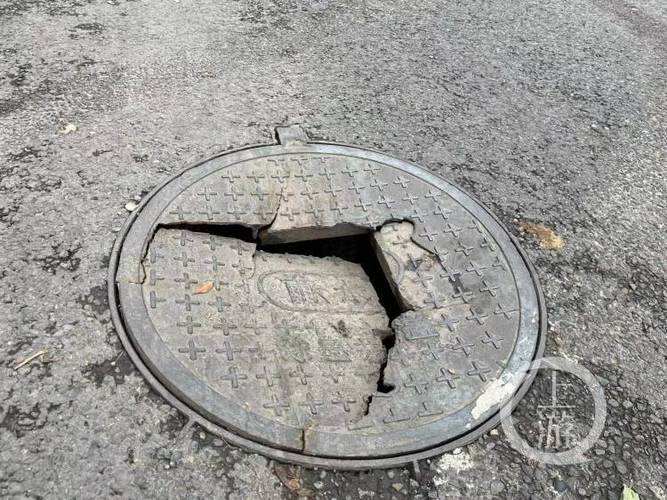broke: (97, 127, 550, 480)
